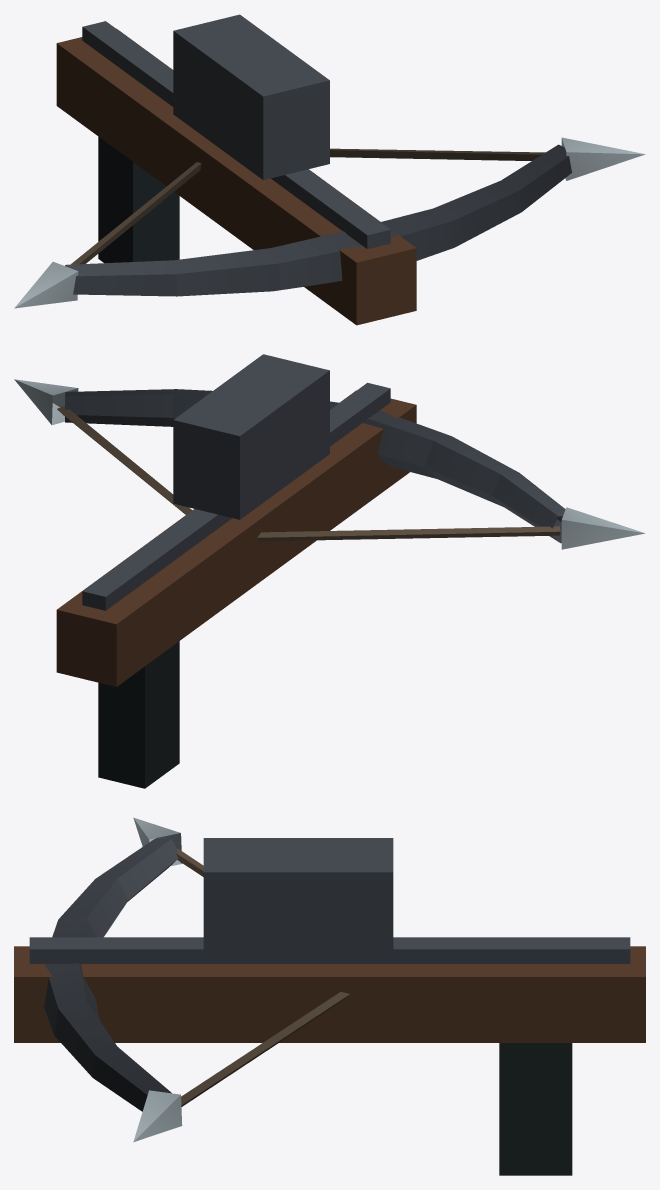
Rendered from ranger_repeater_1.gltf.
3 views of the same model, one above another, from view 1: azimuth 30°, elevation 25°; view 2: azimuth 150°, elevation 25°; view 3: azimuth 270°, elevation 25° (orthographic). The views are drawn at different scales.
Visible parts, largest first — view 1: ranger_repeater_1; view 2: ranger_repeater_1; view 3: ranger_repeater_1.
Boxes of the visible parts, x1=… form: ranger_repeater_1: x1=14, y1=14, x2=645, y2=325; ranger_repeater_1: x1=14, y1=354, x2=645, y2=788; ranger_repeater_1: x1=14, y1=817, x2=645, y2=1175.
Bounding box in the file's own units: 0.9488 × 0.42 × 0.78.
1 material, 1 textured.
